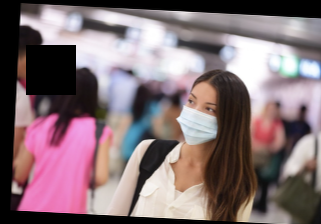with_mask: (174, 89, 220, 145)
